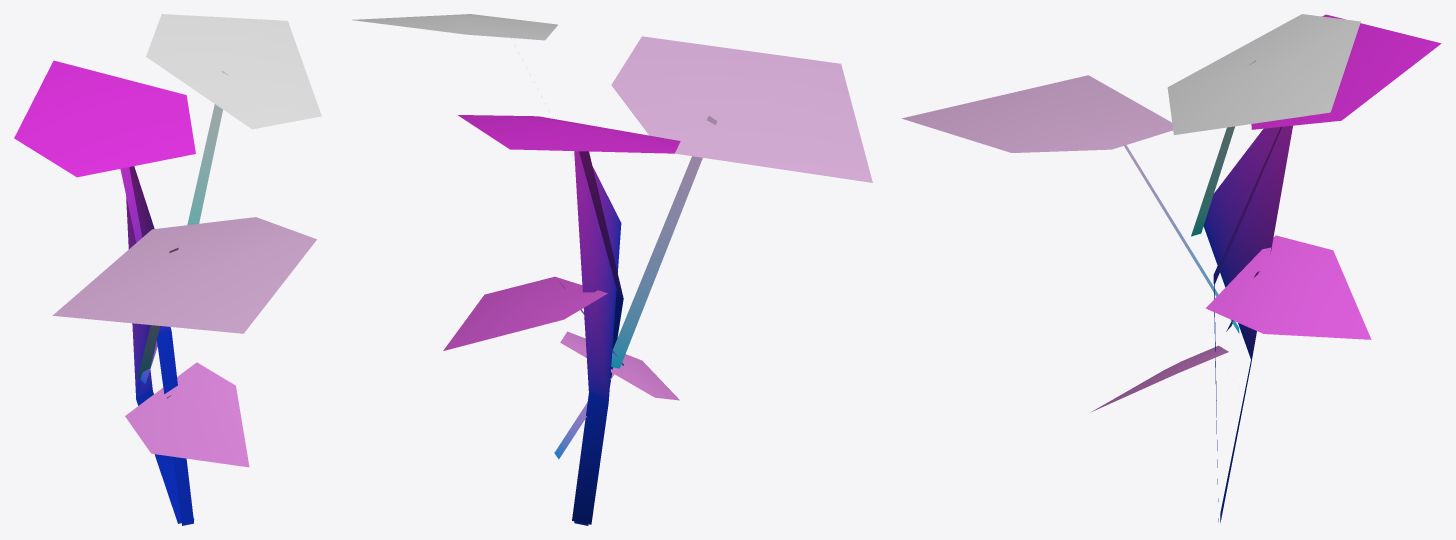
The model's file is English_Ivy_xfcnebhqx_Mid_xfcnebhqx_VarI_LOD2.fbx.
The picture shows the model from 3 angles, left to right: view 1: azimuth 30°, elevation 25°; view 2: azimuth 150°, elevation 25°; view 3: azimuth 270°, elevation 25°; orthographic projection. The views are drawn at different scales.
Visible parts, largest first — view 1: _lqu8_VarI_LOD4; view 2: _lqu8_VarI_LOD4; view 3: _lqu8_VarI_LOD4.
Part boxes in pixels (left/top/right/bottom): _lqu8_VarI_LOD4: left=14, top=14, right=321, bottom=525; _lqu8_VarI_LOD4: left=352, top=14, right=872, bottom=525; _lqu8_VarI_LOD4: left=901, top=14, right=1441, bottom=522.
Bounding box in the file's own units: 14.84 × 18.95 × 17.82.
